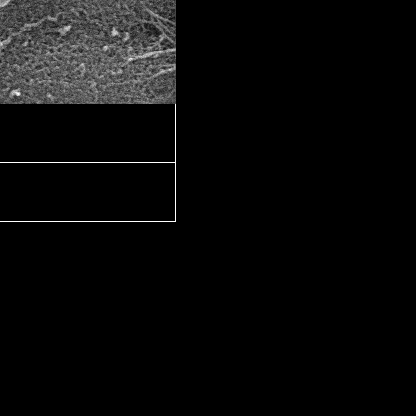curved: (0, 0, 46, 5)
